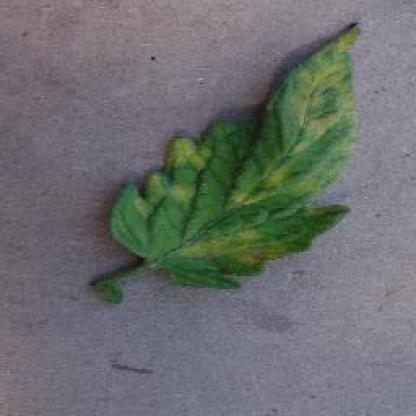bad leaf: (250, 22, 363, 198), (125, 214, 306, 270), (132, 131, 216, 208)
